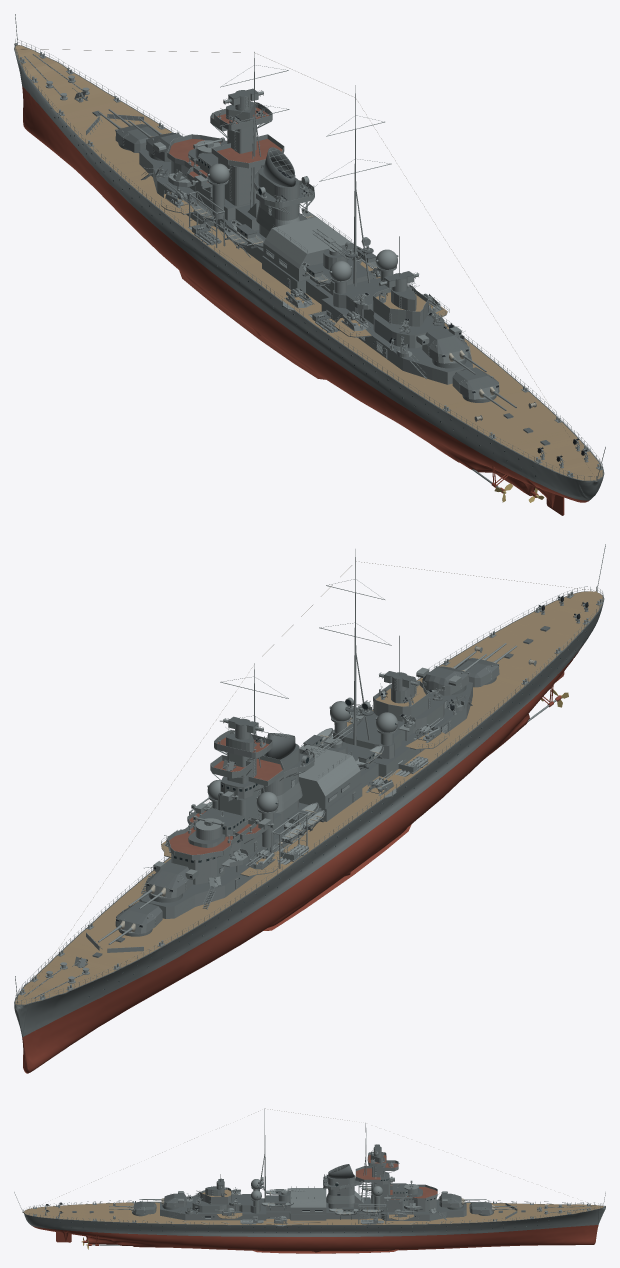
Rendered from admiral-hipper.glb.
The picture shows the model from 3 angles, top to bottom: view 1: azimuth 30°, elevation 25°; view 2: azimuth 150°, elevation 25°; view 3: azimuth 270°, elevation 25°; orthographic projection. The views are drawn at different scales.
Visible parts, largest first — view 1: Blueprint lofted hull, deck.mesh, hangar.mesh, boats.mesh, aft-deckhouse.mesh, aft-shelter.mesh, hull-fittings.mesh, masts.mesh, forward-shelter.mesh, propulsion.mesh, main-caesar.yaw.mesh, main-dora.yaw.mesh (+8 smaller); view 2: Blueprint lofted hull, deck.mesh, hangar.mesh, forward-shelter.mesh, boats.mesh, aft-deckhouse.mesh, hull-fittings.mesh, aft-shelter.mesh, main-bruno.yaw.mesh, masts.mesh, bridge-fittings.mesh, main-caesar.yaw.mesh (+9 smaller); view 3: Blueprint lofted hull, deck.mesh, forward-shelter.mesh, aft-shelter.mesh, hangar.mesh, boats.mesh, aft-deckhouse.mesh, hull-fittings.mesh, propulsion.mesh, masts.mesh, hangar-lower.mesh, main-bruno.yaw.mesh (+12 smaller).
Part boxes in pixels (x1,y1,x2,y2): Blueprint lofted hull: [14, 44, 603, 507]; deck.mesh: [14, 39, 604, 481]; hangar.mesh: [263, 217, 360, 281]; boats.mesh: [189, 191, 380, 290]; aft-deckhouse.mesh: [333, 278, 444, 348]; aft-shelter.mesh: [321, 296, 472, 384]; hull-fittings.mesh: [15, 14, 605, 480]; masts.mesh: [219, 52, 399, 286]; forward-shelter.mesh: [139, 147, 265, 262]; propulsion.mesh: [179, 270, 564, 515]; main-caesar.yaw.mesh: [416, 326, 469, 363]; main-dora.yaw.mesh: [452, 367, 499, 400]; Blueprint lofted hull: [14, 604, 603, 1073]; deck.mesh: [14, 586, 604, 1005]; hangar.mesh: [299, 744, 360, 808]; forward-shelter.mesh: [139, 802, 321, 918]; boats.mesh: [189, 728, 383, 868]; aft-deckhouse.mesh: [333, 690, 444, 758]; hull-fittings.mesh: [15, 544, 605, 1003]; aft-shelter.mesh: [373, 682, 472, 777]; main-bruno.yaw.mesh: [146, 861, 198, 898]; masts.mesh: [220, 549, 399, 792]; bridge-fittings.mesh: [188, 740, 274, 843]; main-caesar.yaw.mesh: [416, 666, 469, 695]; Blueprint lofted hull: [22, 1206, 605, 1252]; deck.mesh: [22, 1199, 605, 1225]; forward-shelter.mesh: [326, 1199, 466, 1220]; aft-shelter.mesh: [160, 1198, 266, 1220]; hangar.mesh: [290, 1188, 326, 1213]; boats.mesh: [261, 1184, 386, 1223]; aft-deckhouse.mesh: [192, 1194, 260, 1213]; hull-fittings.mesh: [14, 1111, 605, 1232]; propulsion.mesh: [56, 1232, 398, 1253]; masts.mesh: [220, 1108, 366, 1206]; hangar-lower.mesh: [266, 1211, 326, 1220]; main-bruno.yaw.mesh: [439, 1191, 463, 1207].
Bounding box in the file's own units: 22.85 × 55.34 × 208.
12 materials, 7 textured.
